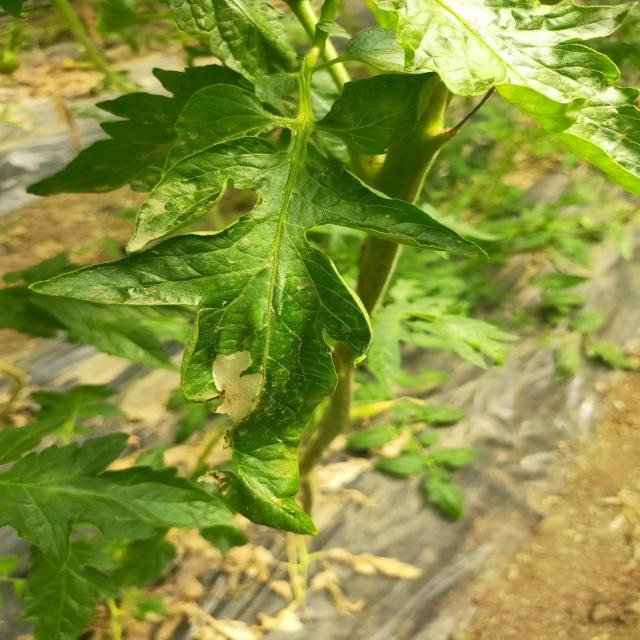Tuta absoluta: (211, 350, 267, 426)
